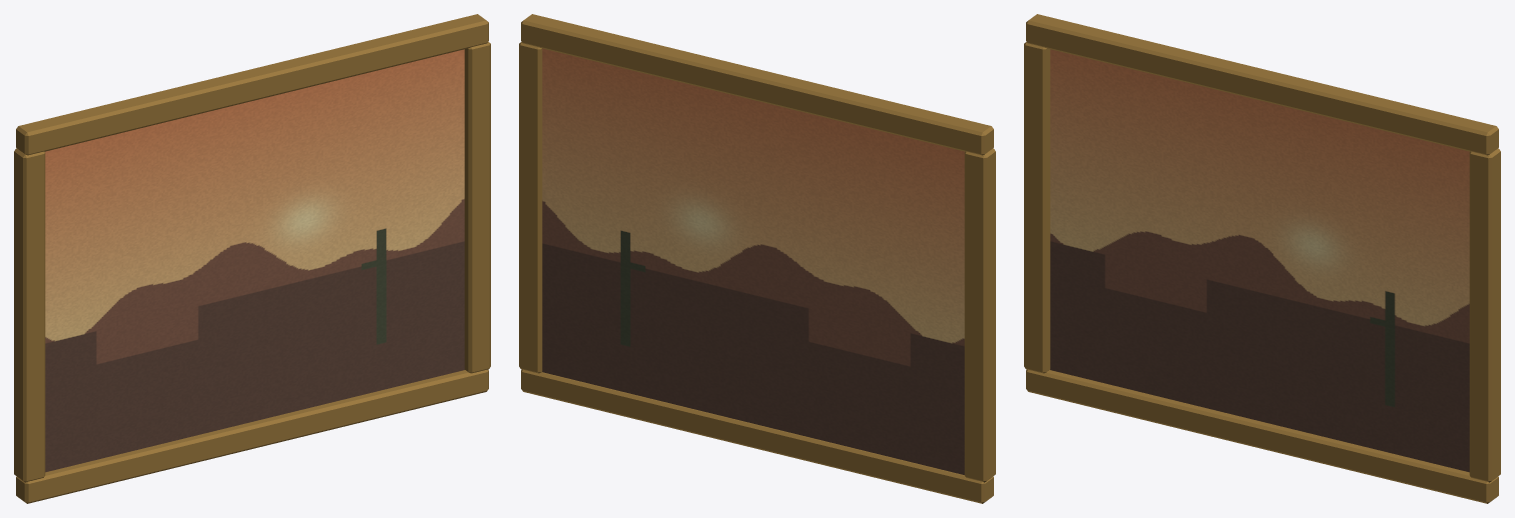
Rendered from wall_print_desert.glb.
3 views of the same model, side by side, from view 1: azimuth 30°, elevation 25°; view 2: azimuth 150°, elevation 25°; view 3: azimuth 330°, elevation 25° (orthographic).
Visible parts, largest first — view 1: wall_print_desert; view 2: wall_print_desert; view 3: wall_print_desert.
Boxes of the visible parts, x1,y1,x2,y2 form: wall_print_desert: [14, 14, 490, 503]; wall_print_desert: [519, 14, 995, 503]; wall_print_desert: [1024, 14, 1500, 503].
Bounding box in the file's own units: 0.746 × 0.566 × 0.032.
Materials: 2 (1 with a texture image).
